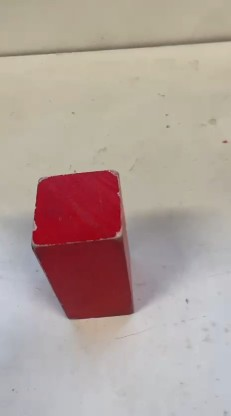red: (44, 165, 138, 322)
